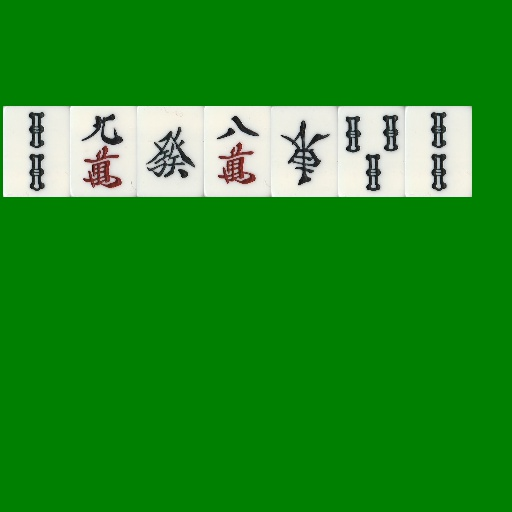2s: (3, 106, 70, 197), (405, 106, 472, 197)
3s: (338, 106, 405, 197)
8m: (204, 106, 271, 197)
9m: (70, 106, 137, 197)
east: (271, 106, 338, 197)
hatsu: (137, 106, 204, 197)
